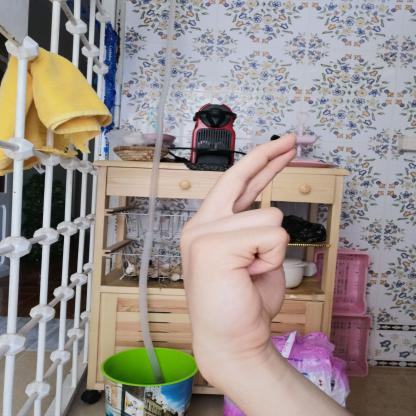ZAY: (172, 126, 312, 365)
